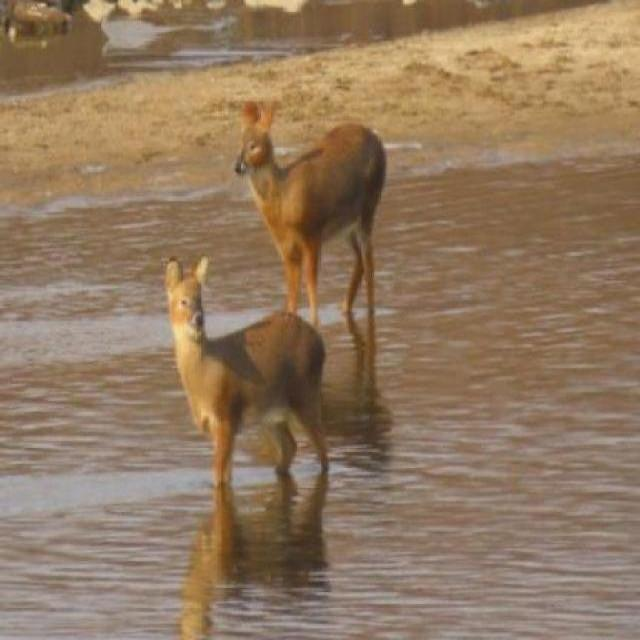deer: (154, 252, 338, 512), (228, 93, 404, 335)
